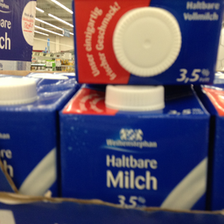milk: (60, 82, 212, 213), (69, 1, 224, 83)
